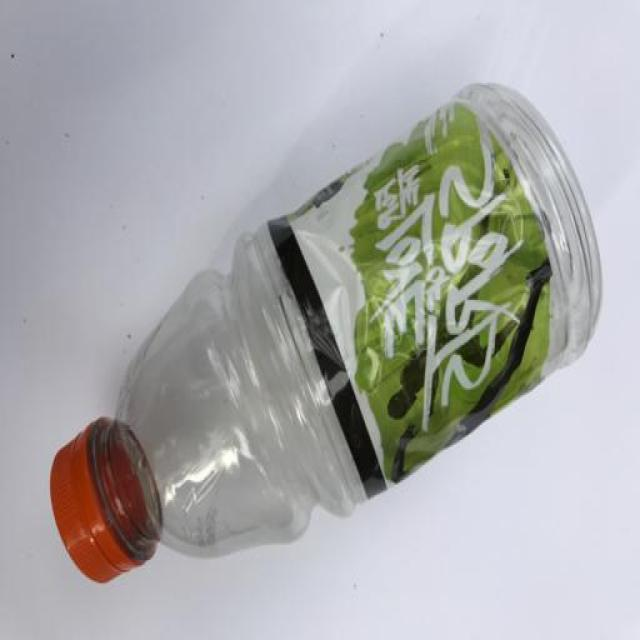plastic: (45, 78, 604, 590)
